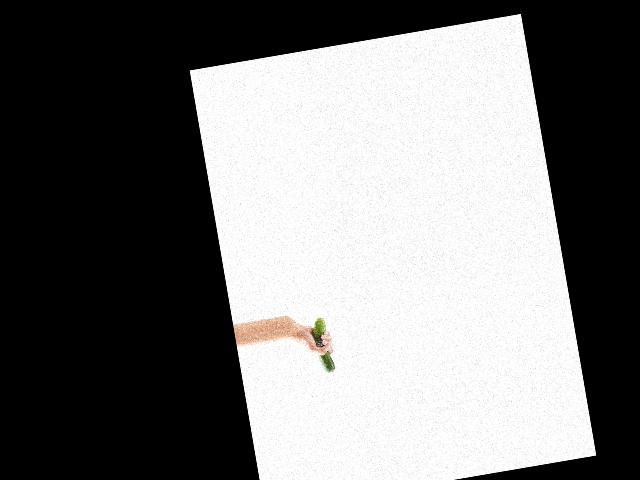cucumber: (310, 316, 336, 374)
